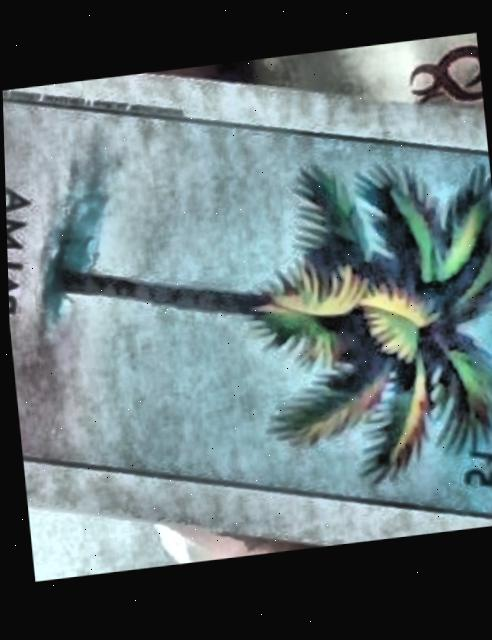La Palma: (2, 100, 492, 524)
